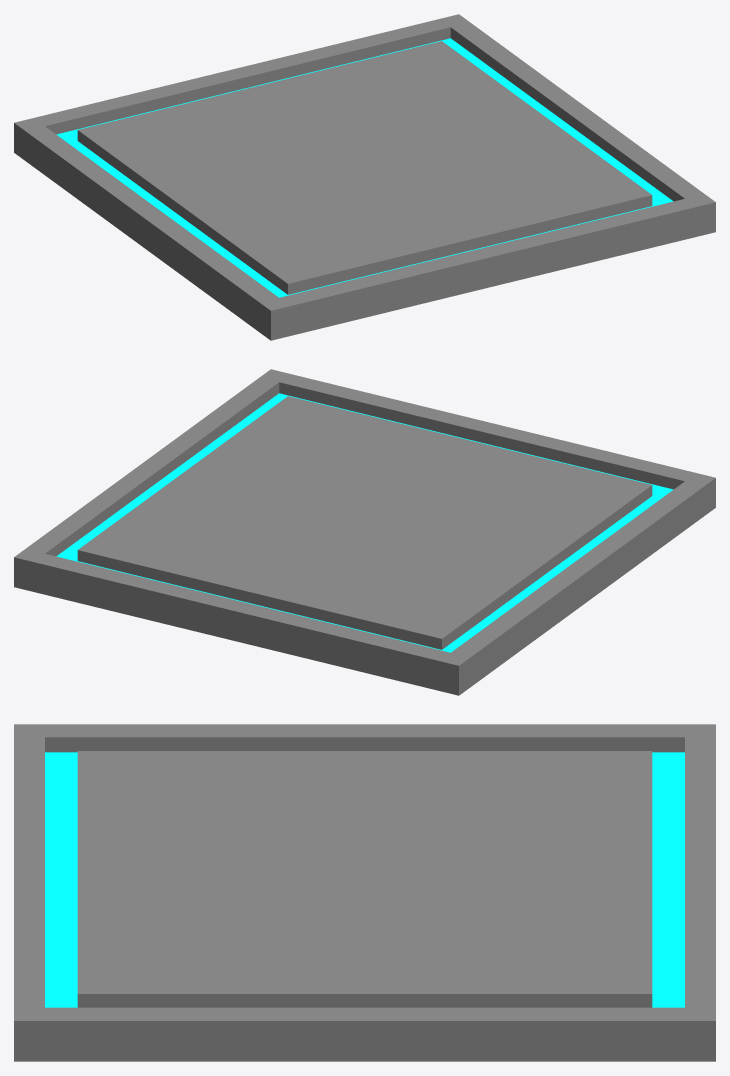
The model's file is spawner.fbx.
The picture shows the model from 3 angles, top to bottom: view 1: azimuth 30°, elevation 25°; view 2: azimuth 150°, elevation 25°; view 3: azimuth 270°, elevation 25°; orthographic projection. The views are drawn at different scales.
Visible parts, largest first — view 1: spawner; view 2: spawner; view 3: spawner.
Part boxes in pixels (x1,y1,x2,y2): spawner: [14, 14, 715, 340]; spawner: [14, 369, 715, 695]; spawner: [14, 724, 715, 1061].
Size of the model in its own units: 2.19 by 0.1405 by 2.19.
